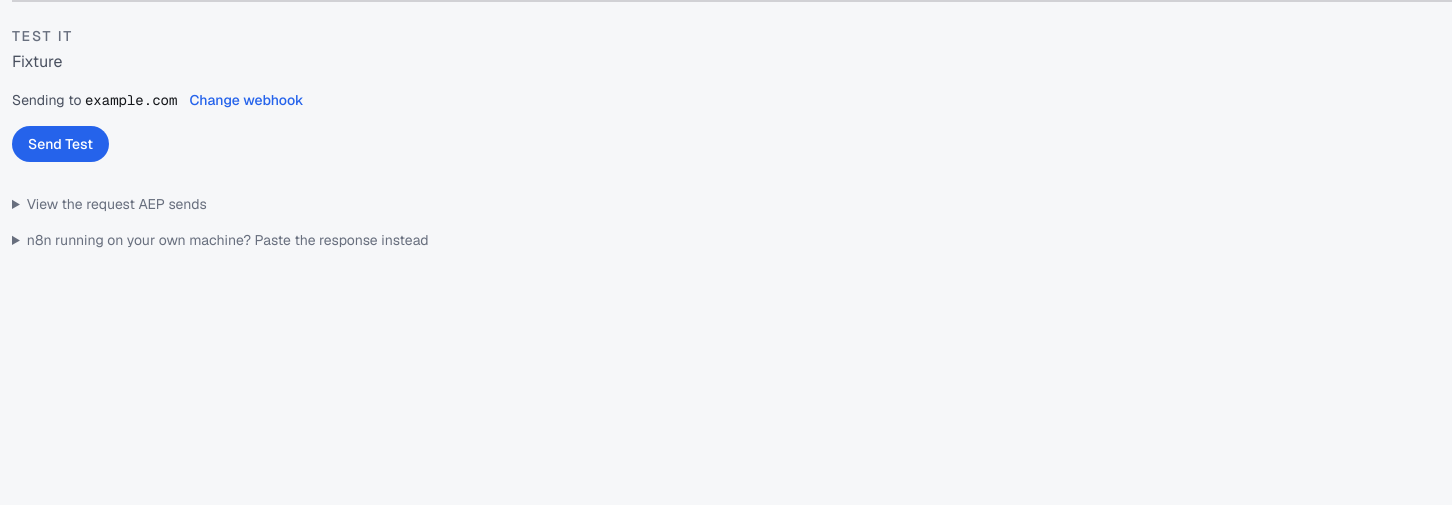
Test: retains the genuine pass and warns about unsaved progress in send
This screenshot has width=1452, height=505.
Click the button "Send Test" at point(60, 144), box 12,126 -> 109,162
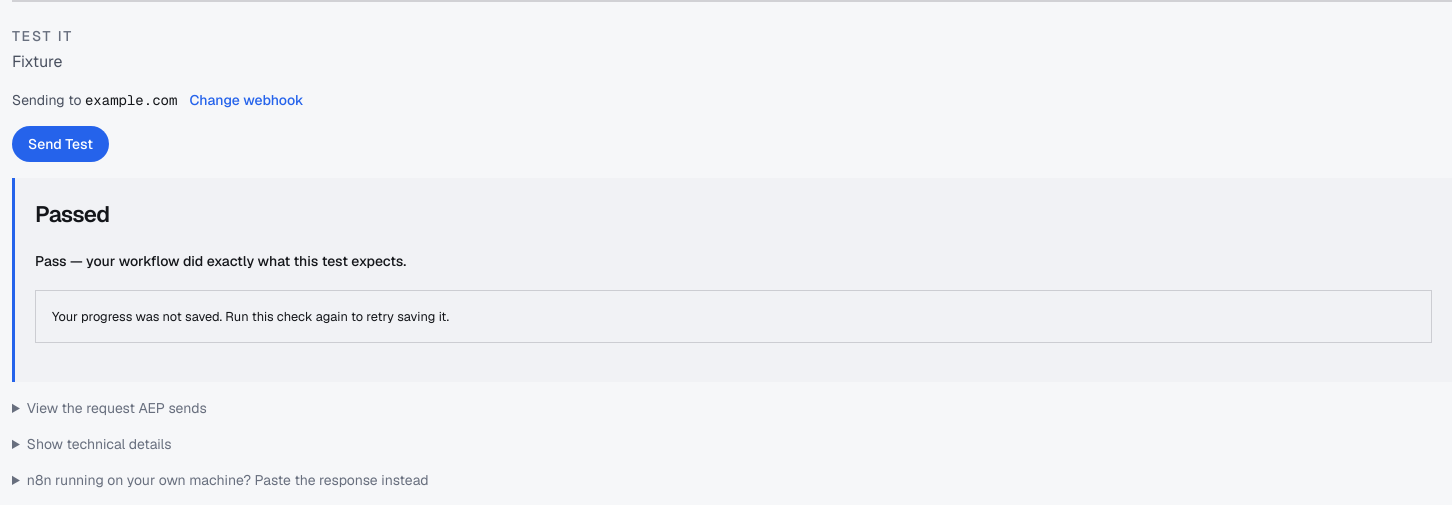
Expected: the text "Pass — your workflow did exactly what this test expects." is shown, 35,252 -> 406,270
